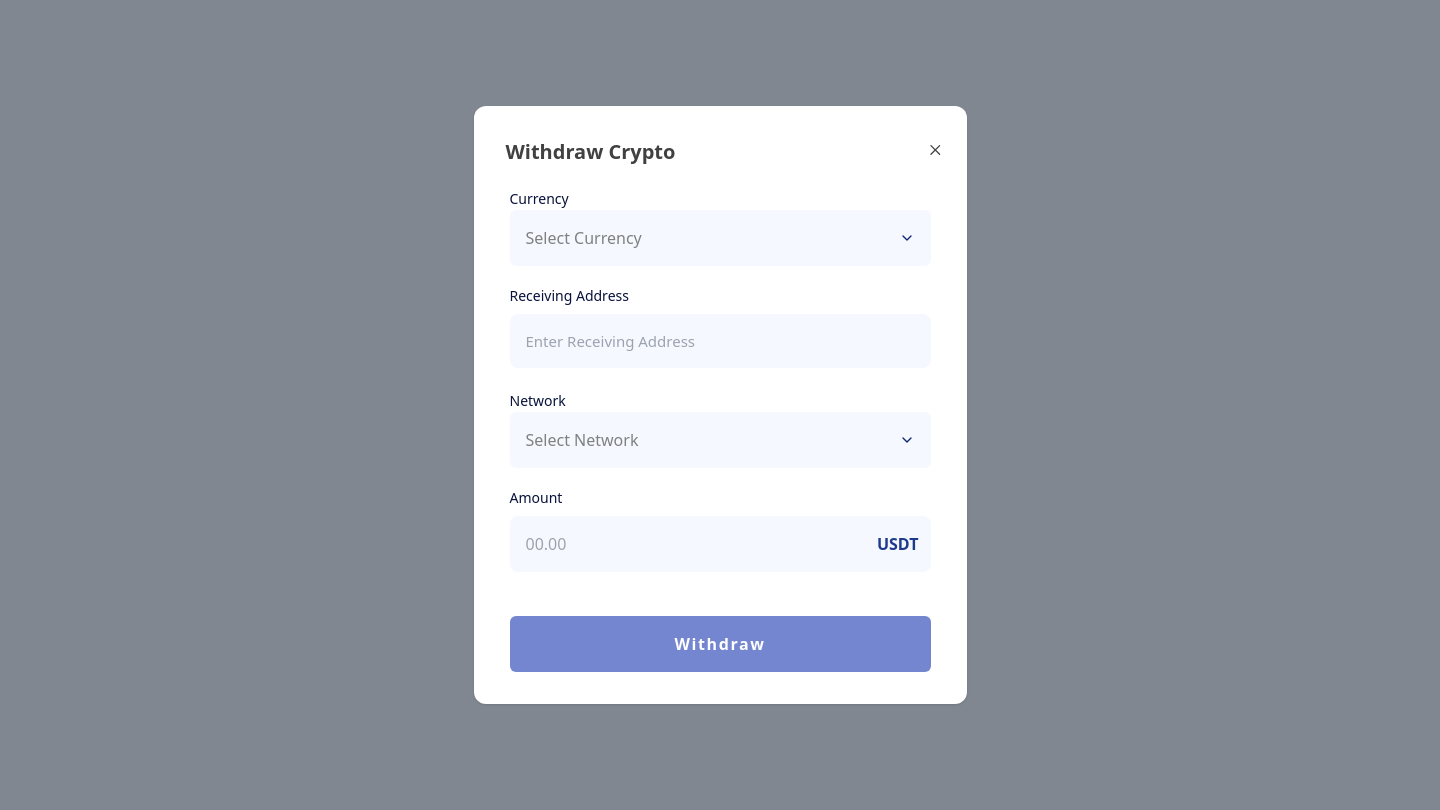
Test case: Withdraw page end-to-end validations › shows default error message when fee calculation error has no message
Click the element with test id "Select Currency": (720, 238) top-left (510, 210), bottom-right (930, 266)
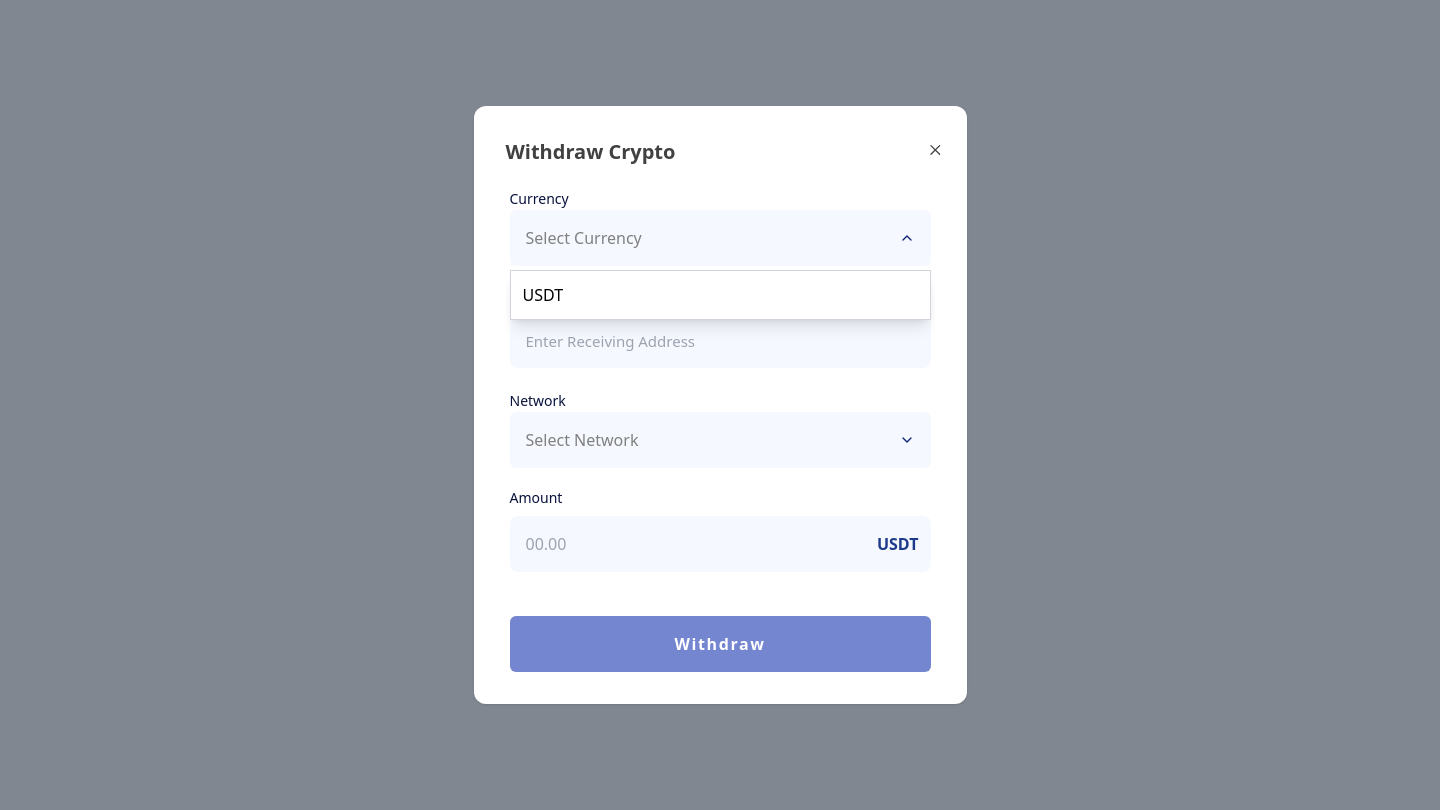
Click the list item with test id "USDT button": (543, 295) top-left (522, 284), bottom-right (563, 306)
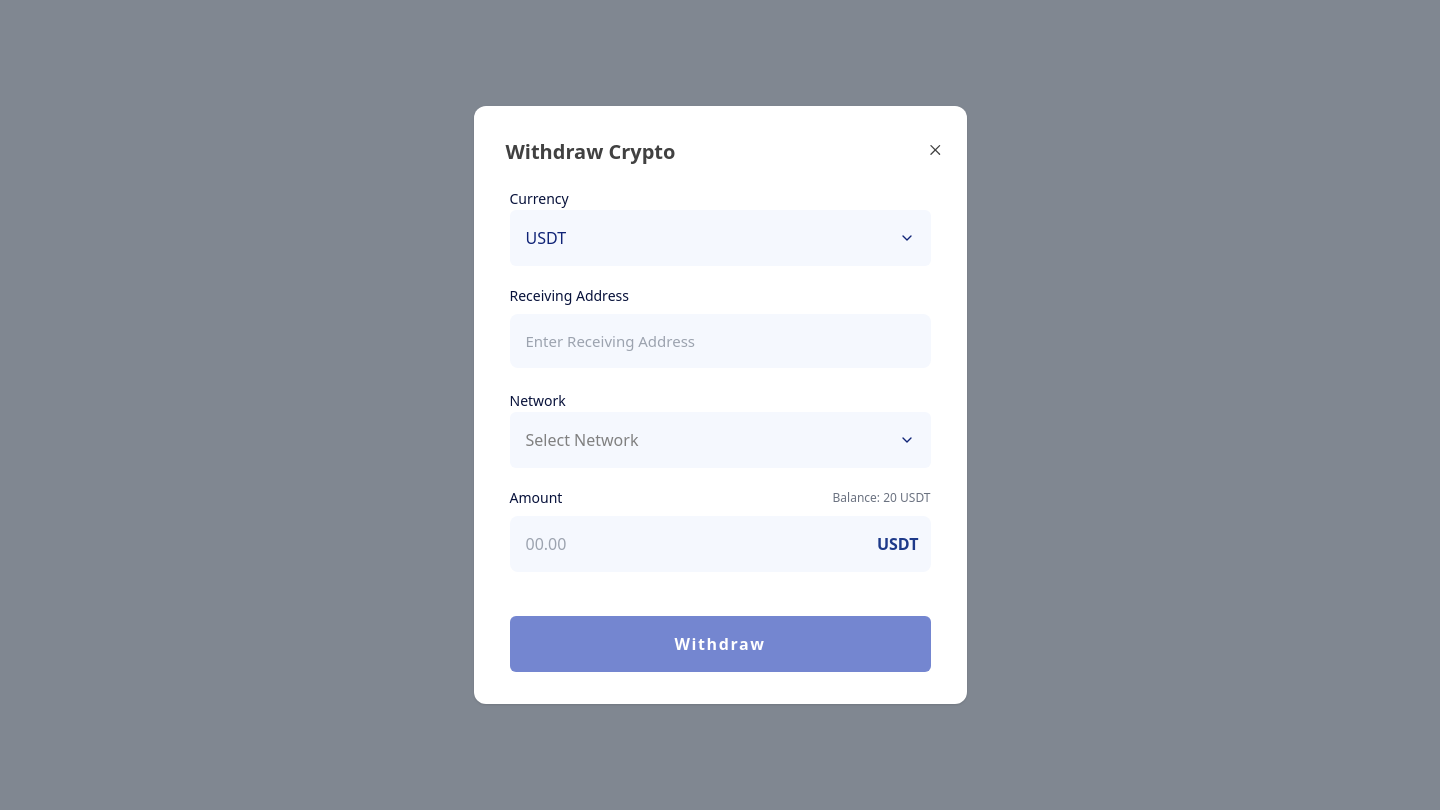
Click the element with test id "Select Network": (720, 440) top-left (510, 412), bottom-right (930, 468)
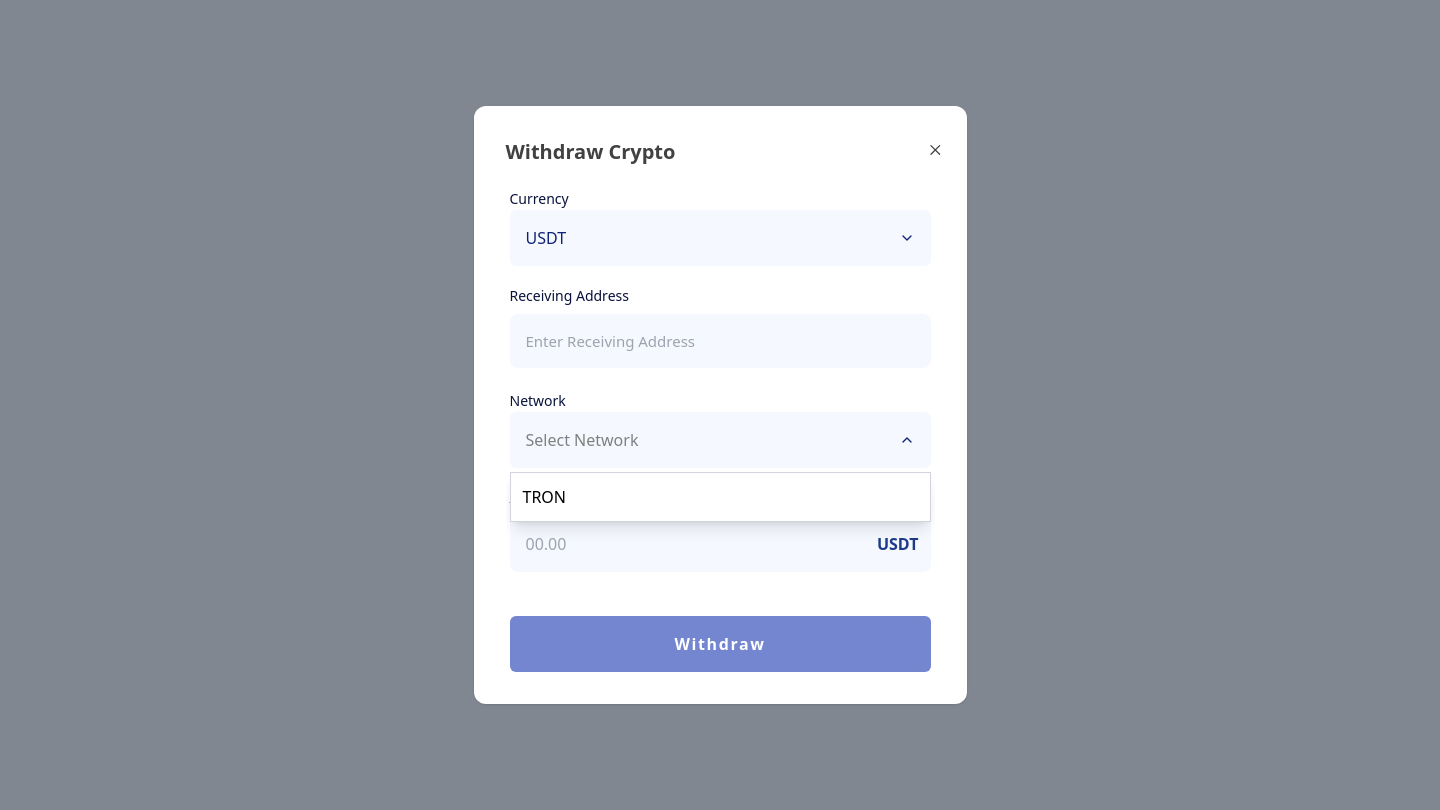
Click the list item with test id "TRON button": (544, 497) top-left (522, 486), bottom-right (566, 508)
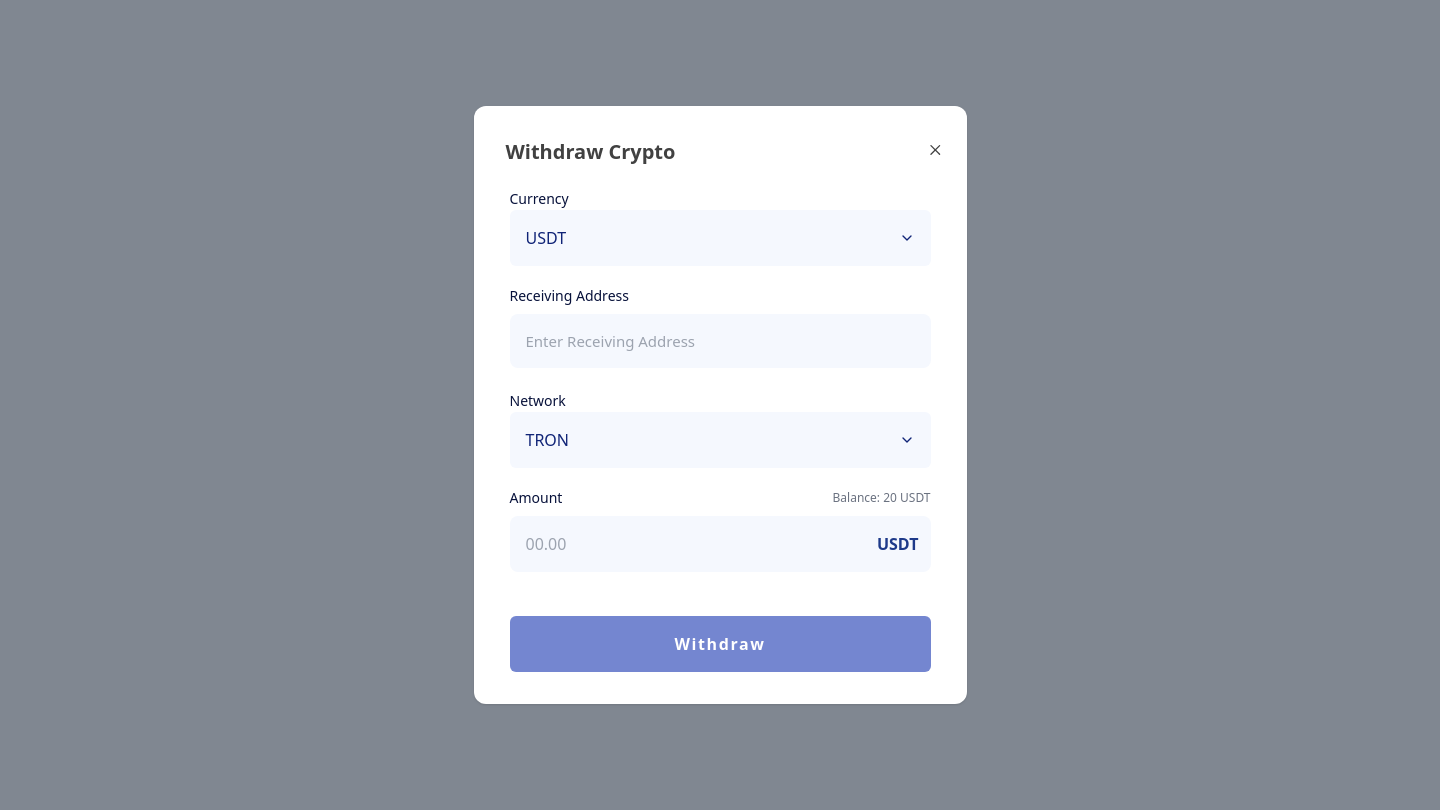
In the number field with placeholder "00.00": (720, 544) top-left (510, 516), bottom-right (930, 572), type "12"
Wait 1000 ms
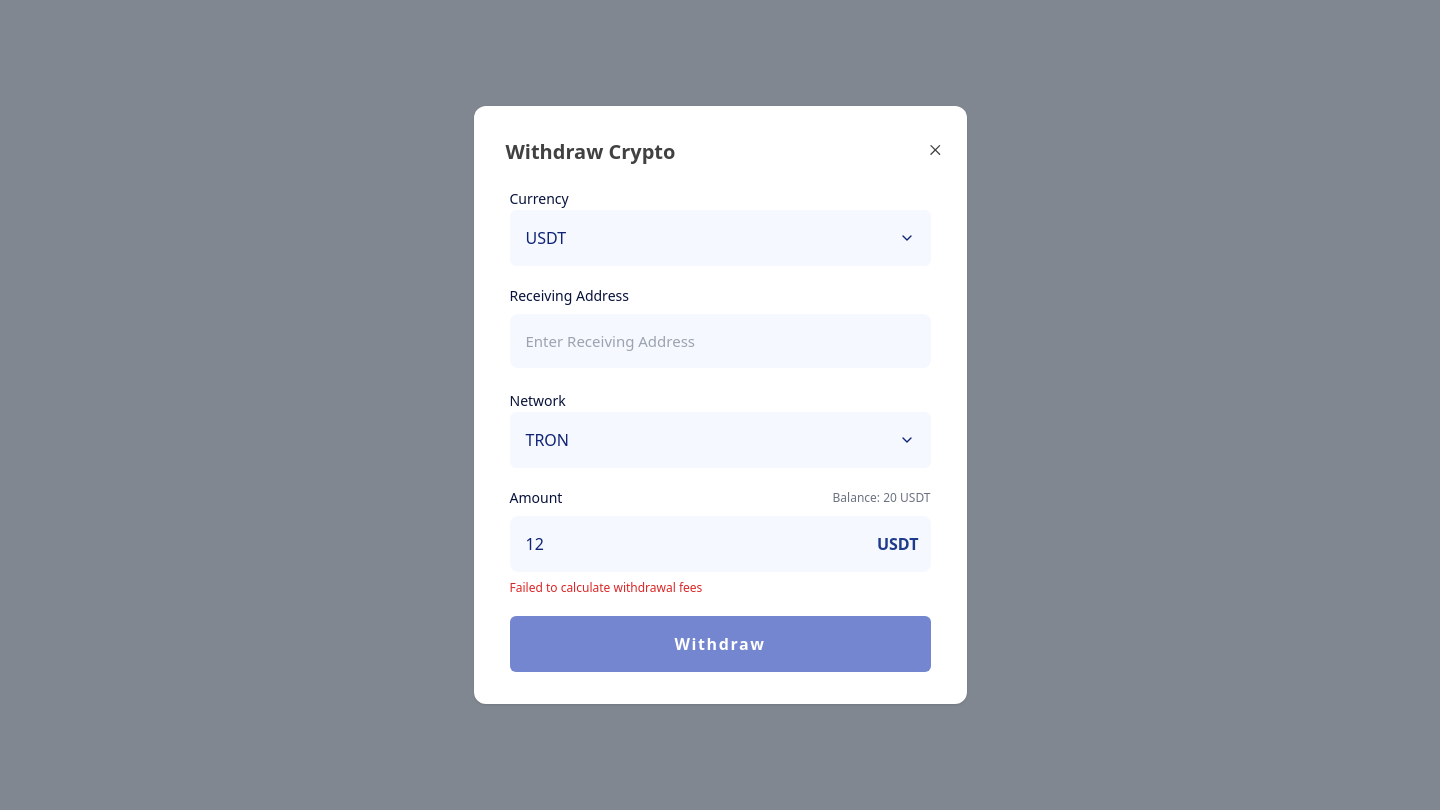
Expected: the text "Failed to calculate withdrawal fees" is shown, top-left (510, 579), bottom-right (702, 596)
